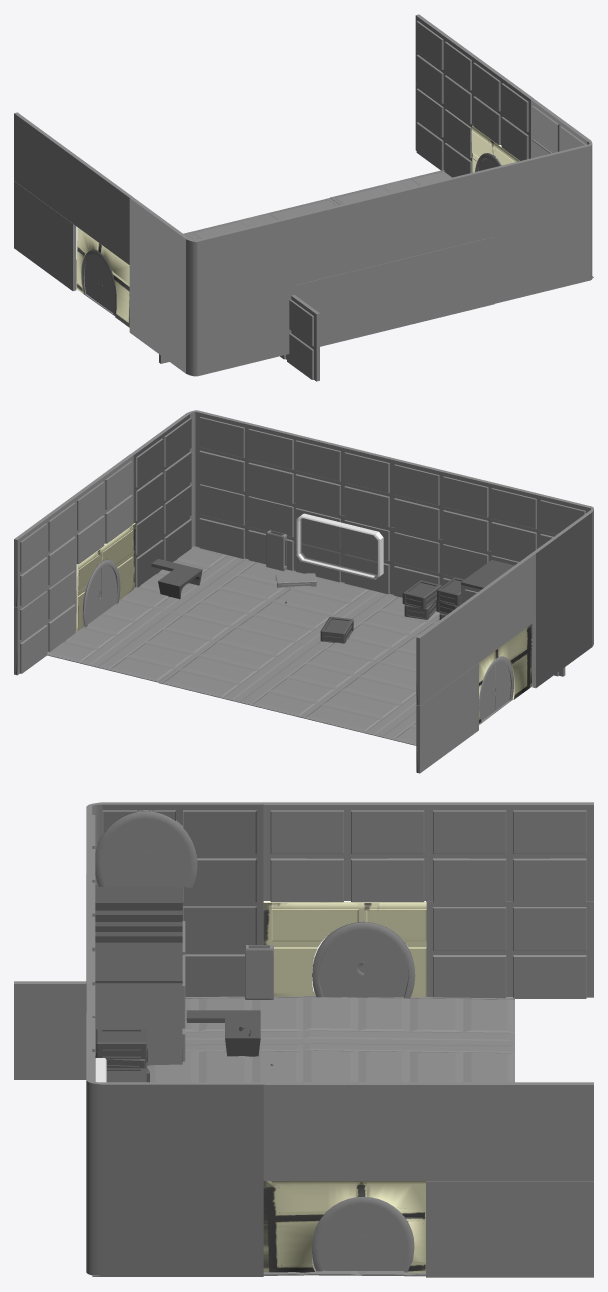
Rendered from ROOM07.FBX.
The picture shows the model from 3 angles, top to bottom: view 1: azimuth 30°, elevation 25°; view 2: azimuth 150°, elevation 25°; view 3: azimuth 270°, elevation 25°; orthographic projection. The views are drawn at different scales.
Visible parts, largest first — view 1: pCube009, pCube030, pCube031, pCube035, pCube008, pCube032, pCube033, pCube034, pCube041, pCube036, pCube042, pCube038 (+8 smaller); view 2: pCube031, pCube047, pCube032, pCube009, pCube046, pCube049, pCube008, pCube035, pCube050, pCube048, pCube033, pCube036 (+20 smaller); view 3: pCube031, pCube048, pCube032, pCube040, pCube038, pCube042, pCube036, pCube037, pCube041, pCube044, pCube009, pCube2 (+13 smaller).
Boxes of the visible parts, x1,y1,x2,y2 form: pCube009: (129,197,294,309); pCube030: (129,266,294,376); pCube031: (493,99,592,236); pCube035: (293,191,396,285); pCube008: (392,167,494,260); pCube032: (493,212,592,304); pCube033: (393,237,494,328); pCube034: (295,261,396,346); pCube041: (14,181,76,290); pCube036: (415,14,477,124); pCube042: (70,154,132,264); pCube038: (472,56,533,160); pCube031: (130,410,293,522); pCube047: (159,626,374,717); pCube032: (132,479,293,587); pCube009: (491,483,593,620); pCube046: (234,576,440,660); pCube049: (47,599,232,682); pCube008: (292,434,395,527); pCube035: (390,458,494,551); pCube050: (121,546,302,626); pCube048: (301,661,512,745); pCube033: (292,503,393,594); pCube036: (14,496,76,607); pCube031: (86,1013,263,1180); pCube048: (303,995,514,1082); pCube032: (86,1177,263,1276); pCube040: (426,802,593,902); pCube038: (263,1082,431,1180); pCube042: (263,802,431,902); pCube036: (426,1082,593,1180); pCube037: (426,1181,593,1277); pCube041: (426,901,593,998); pCube044: (14,981,181,1079); pCube009: (86,802,263,969); pCube2: (147,996,303,1082).
Bounding box in the file's own units: 1092 × 371 × 947.
